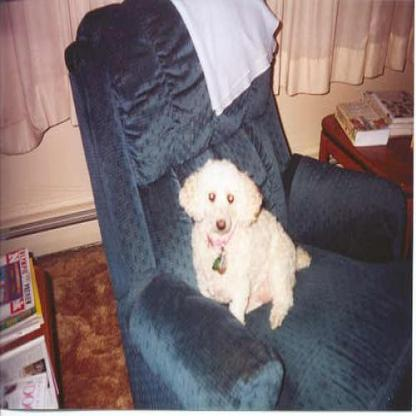miniature_poodle: (177, 157, 310, 328)
